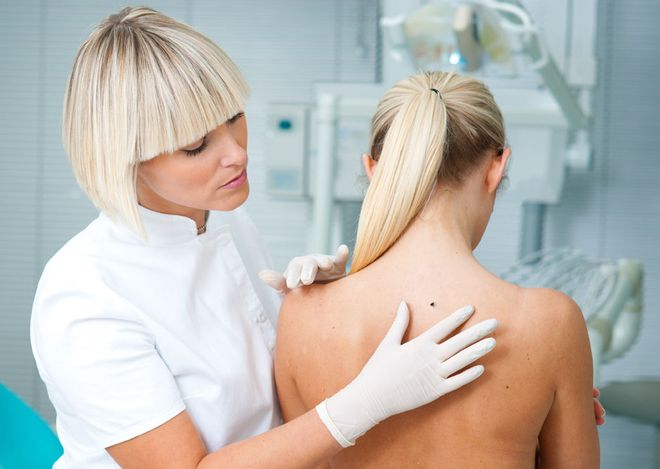mole: (424, 294, 441, 310)
